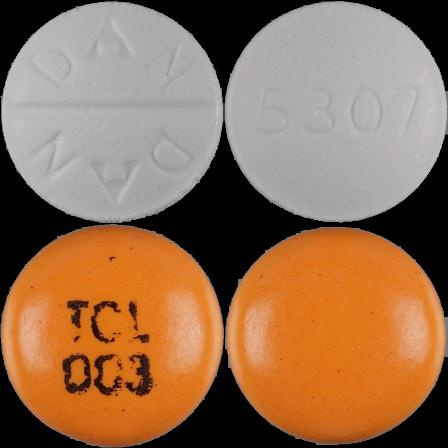58118-5307: (0, 0, 224, 224)
